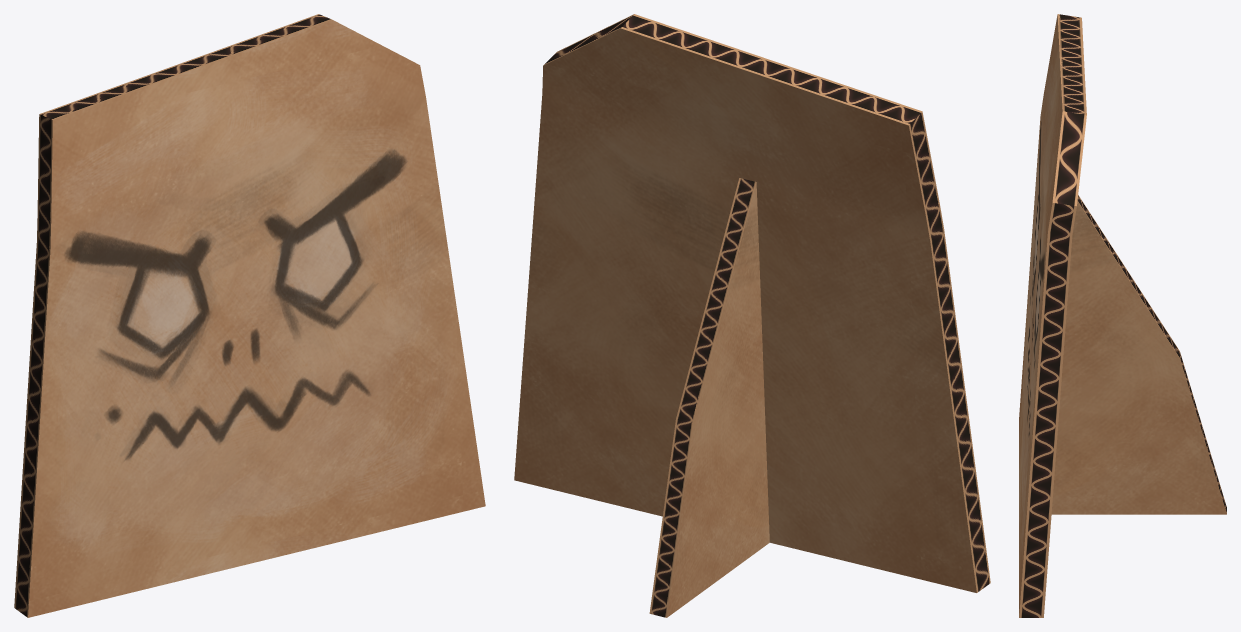
The model's file is Carboard Cut Out Monster.fbx.
The picture shows the model from 3 angles, left to right: view 1: azimuth 30°, elevation 25°; view 2: azimuth 150°, elevation 25°; view 3: azimuth 270°, elevation 25°; orthographic projection. The views are drawn at different scales.
Parts seen in each view (by area): view 1: Cardboard Cut-Out; view 2: Cardboard Cut-Out; view 3: Cardboard Cut-Out.
Part boxes in pixels (<box>): Cardboard Cut-Out: <box>14,14,485,617</box>; Cardboard Cut-Out: <box>514,14,990,617</box>; Cardboard Cut-Out: <box>1019,14,1226,617</box>.
Size of the model in its own units: 76.35 by 79.78 by 33.37.
